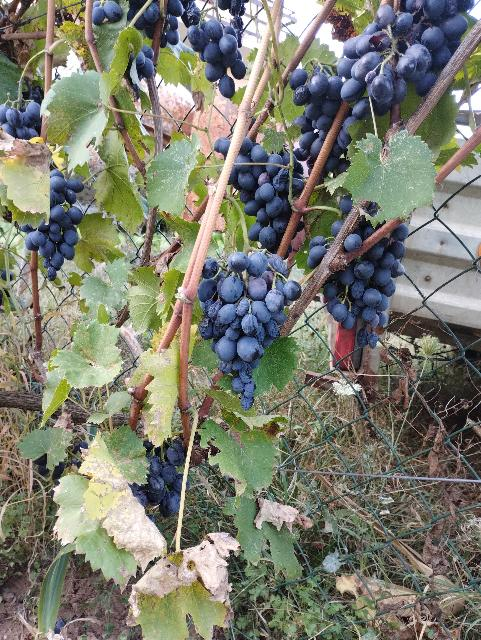grapes: (198, 251, 301, 410), (324, 220, 409, 349), (0, 101, 41, 140)
